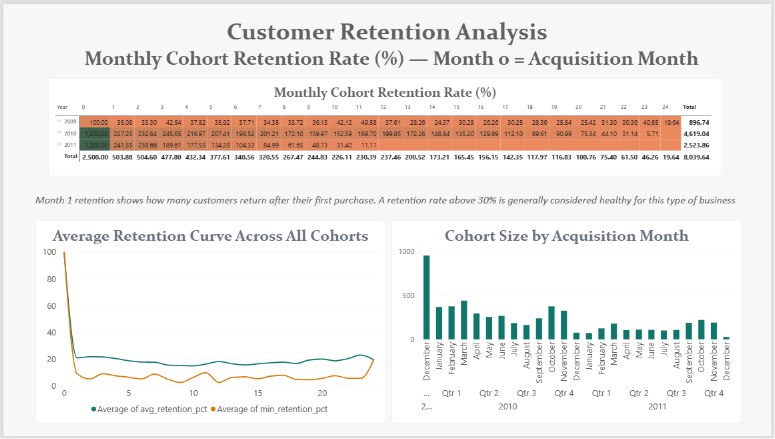

What the dashboard file says about the page in this screenshot:
{"tool":"powerbi","page":{"name":"Retention Analysis","canvas":[1920,1080],"ordinal":2},"visuals":[{"type":"textbox","box":[460,32,998,100],"z":0},{"type":"textbox","box":[95,105,1750,80],"z":1000},{"type":"pivotTable","title":"Monthly Cohort Retention Rate (%)","fields":{"Columns":["cohort_retention (2).month_number"],"Rows":["cohort_retention (2).cohort_month.Variation.Date Hierarchy.Year","cohort_retention (2).cohort_month.Variation.Date Hierarchy.Quarter","cohort_retention (2).cohort_month.Variation.Date Hierarchy.Month","cohort_retention (2).cohort_month.Variation.Date Hierarchy.Day"],"Values":["Sum(cohort_retention (2).retention_rate)"]},"box":[112.5,185,1682.5,245],"z":2000},{"type":"lineChart","title":"Average Retention Curve Across All Cohorts","fields":{"Category":["cohort_retention (2).month_number"],"Y":["Avg(cohort_retention (2).avg_retention_pct)","Avg(cohort_retention (2).min_retention_pct)"]},"box":[80,540,875,507.5],"z":3000},{"type":"columnChart","title":"Cohort Size by Acquisition Month","fields":{"Category":["cohort_retention (2).cohort_month.Variation.Date Hierarchy.Year","cohort_retention (2).cohort_month.Variation.Date Hierarchy.Quarter","cohort_retention (2).cohort_month.Variation.Date Hierarchy.Month","cohort_retention (2).cohort_month.Variation.Date Hierarchy.Day"],"Y":["Sum(cohort_retention (2).cohort_size)"]},"box":[970,540,875,507.5],"z":4000},{"type":"textbox","box":[80,472,1764,68],"z":5000}]}

Visuals, with their boxes in screenshot pixels (x1, y1, x2, y2), scaled from the page's 1920x1080 canvas onto the 775x439 screenshot:
textbox: Rect(186, 13, 589, 54)
textbox: Rect(38, 43, 745, 75)
"Monthly Cohort Retention Rate (%)" pivotTable: Rect(45, 75, 725, 175)
"Average Retention Curve Across All Cohorts" lineChart: Rect(32, 220, 385, 426)
"Cohort Size by Acquisition Month" columnChart: Rect(392, 220, 745, 426)
textbox: Rect(32, 192, 744, 220)
